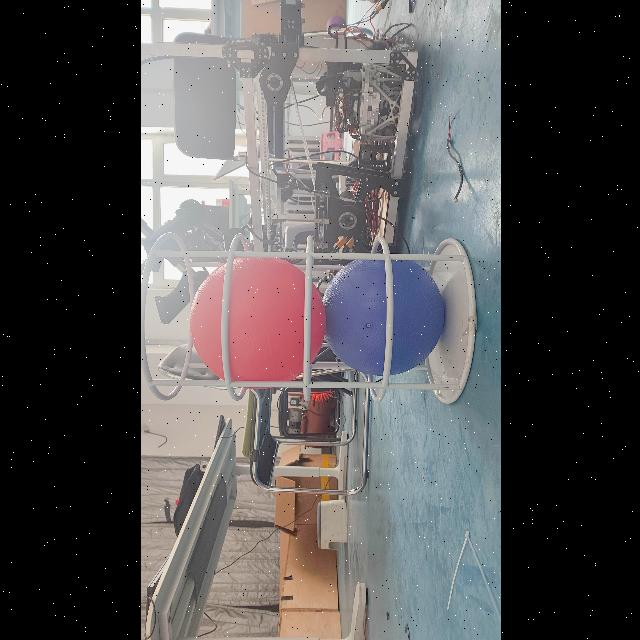B: (322, 254, 444, 376)
R: (188, 252, 322, 388)
S: (140, 224, 483, 414)
